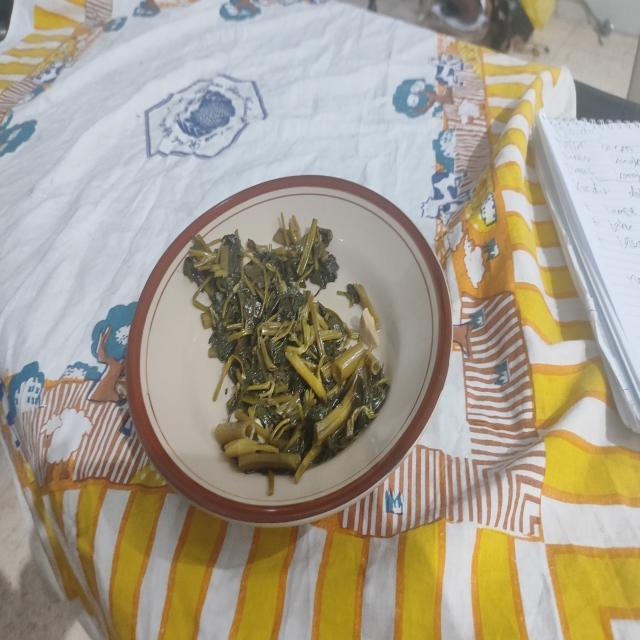tumis_kangkung: (184, 220, 388, 483)
